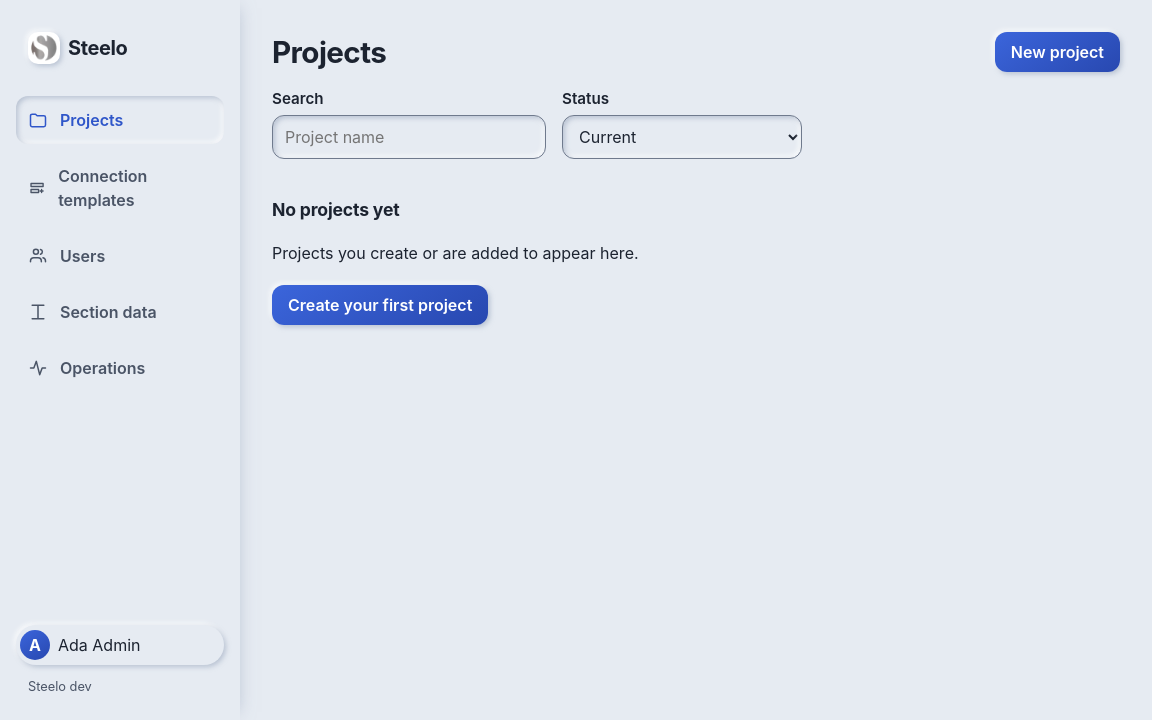
Test: Operations › shows health, recent jobs and failures to administrators
Click the link "Operations" at (87, 368), box [28,358,145,378]
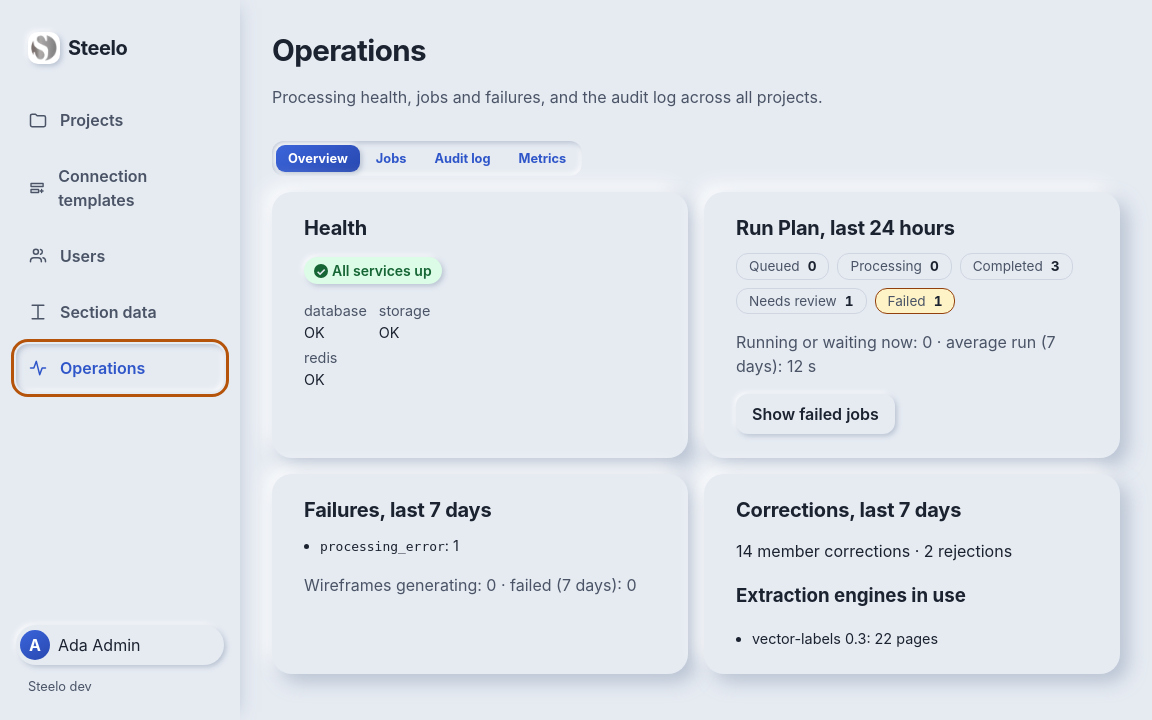
Expected: the text "All services up" is shown, [332,262,432,279]
Expected: the 2nd text "1" is shown, [934,291,942,311]
Expected: the text "processing_error" is shown, [320,539,445,554]
Click the button "Show failed jobs" at (815, 414), box [736,394,895,434]
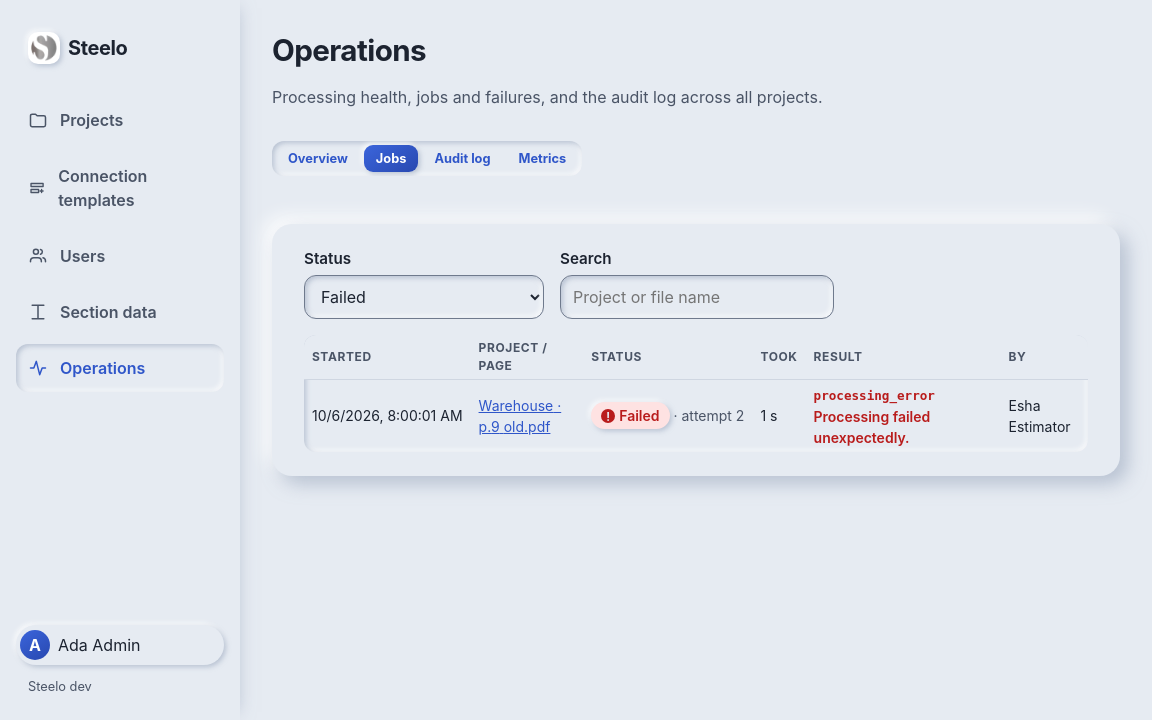
Expected: the number of rows is 2, [304,335,1088,380]; [304,380,1088,452]
Expected: the text "processing_error Processing failed unexpectedly." is shown, [814,386,935,446]
Expected: the text "· attempt 2" is shown, [670,407,744,424]
